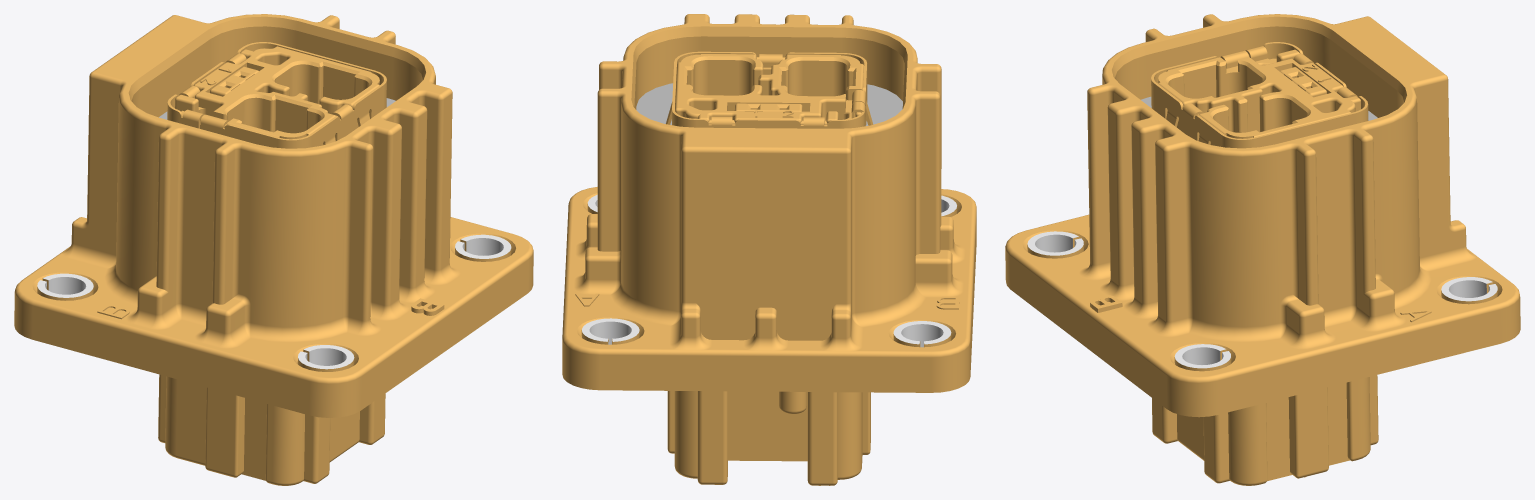
The model's file is EVH2-N2ZJ-TB.glb.
3 views of the same model, side by side, from view 1: azimuth 30°, elevation 25°; view 2: azimuth 150°, elevation 25°; view 3: azimuth 270°, elevation 25° (orthographic). The views are drawn at different scales.
Parts seen in each view (by area): view 1: EVH2-N2ZJ-TB v4; view 2: EVH2-N2ZJ-TB v4; view 3: EVH2-N2ZJ-TB v4.
Part boxes in pixels (x1=…): EVH2-N2ZJ-TB v4: x1=14, y1=14, x2=533, y2=485; EVH2-N2ZJ-TB v4: x1=562, y1=14, x2=976, y2=485; EVH2-N2ZJ-TB v4: x1=1005, y1=14, x2=1520, y2=485.
Size of the model in its own units: 5.46 by 4.25 by 5.47.
